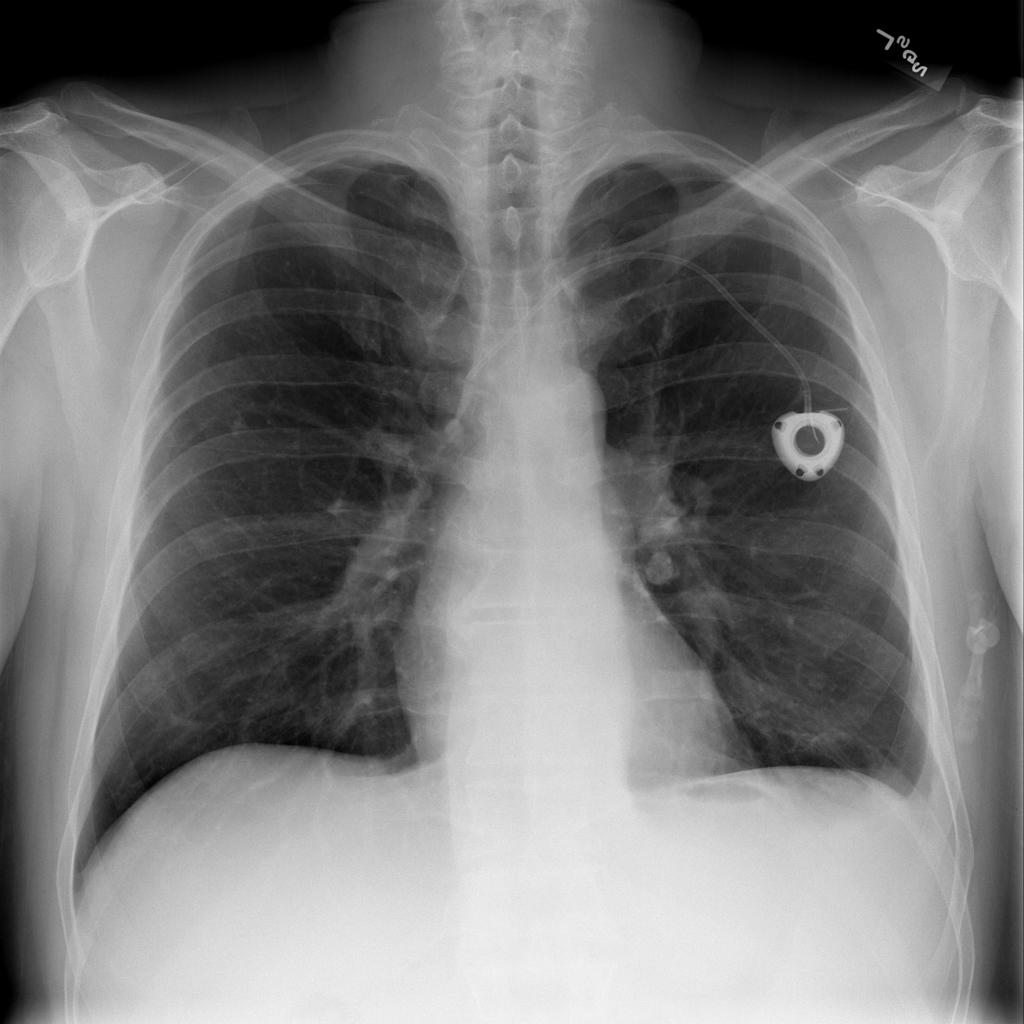nodule: (213, 399, 266, 449), (789, 662, 846, 706), (634, 541, 686, 589)
